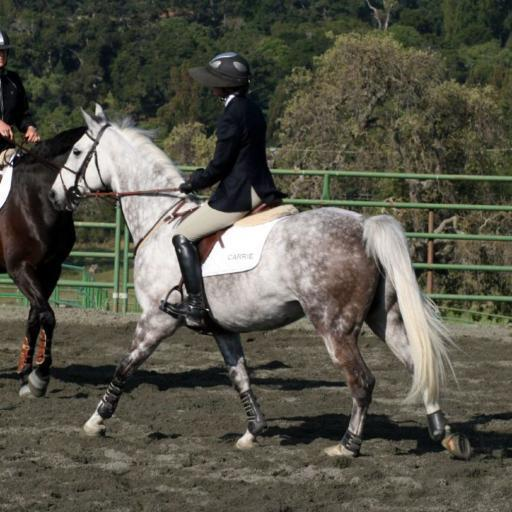horse: (46, 100, 476, 460), (0, 122, 114, 402)
